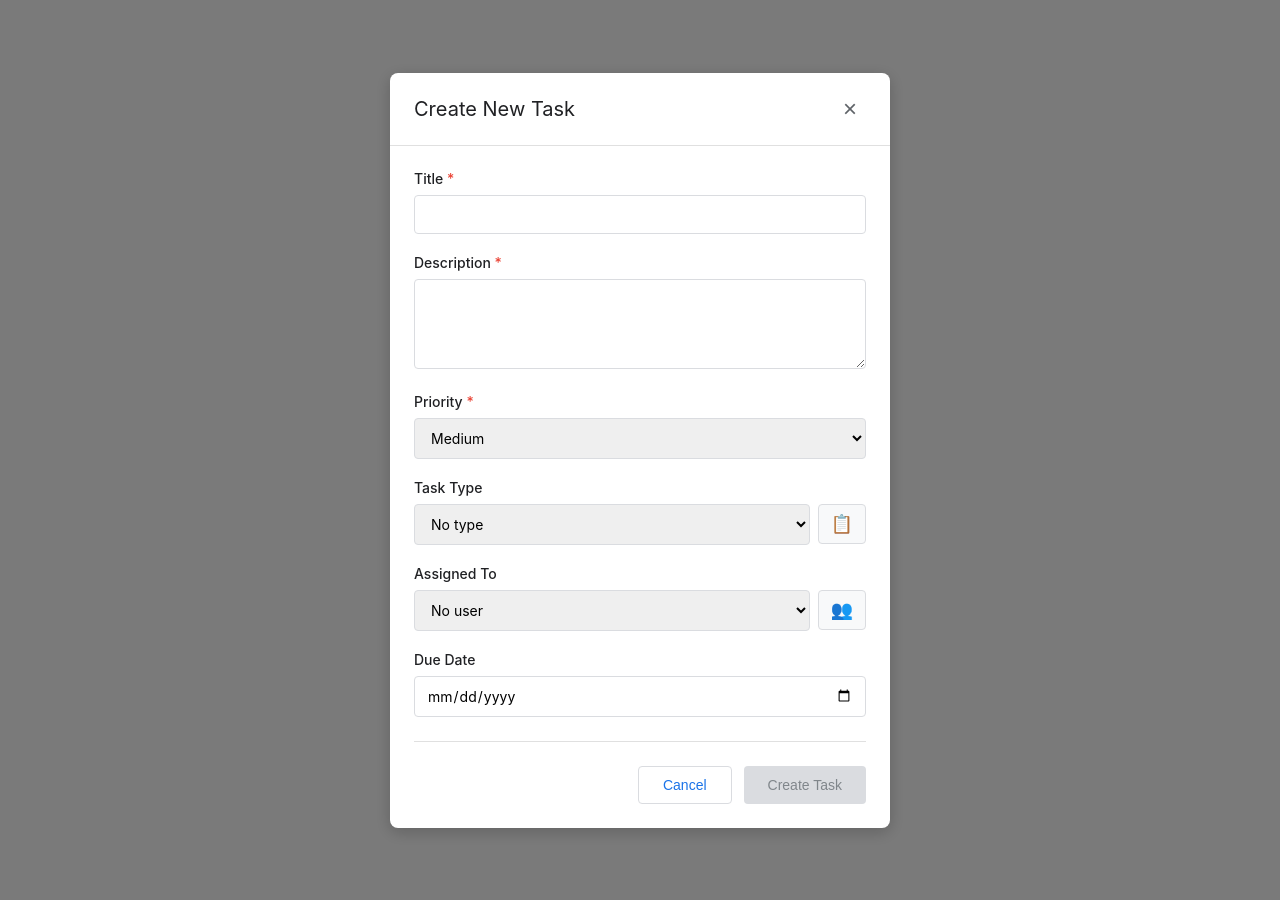
TaskForm › Submit Button State › should be enabled when form is valid and has changes
Type "Test Task" into the field labelled "Title *" at (640, 214), box top-left (414, 194), bottom-right (866, 234)
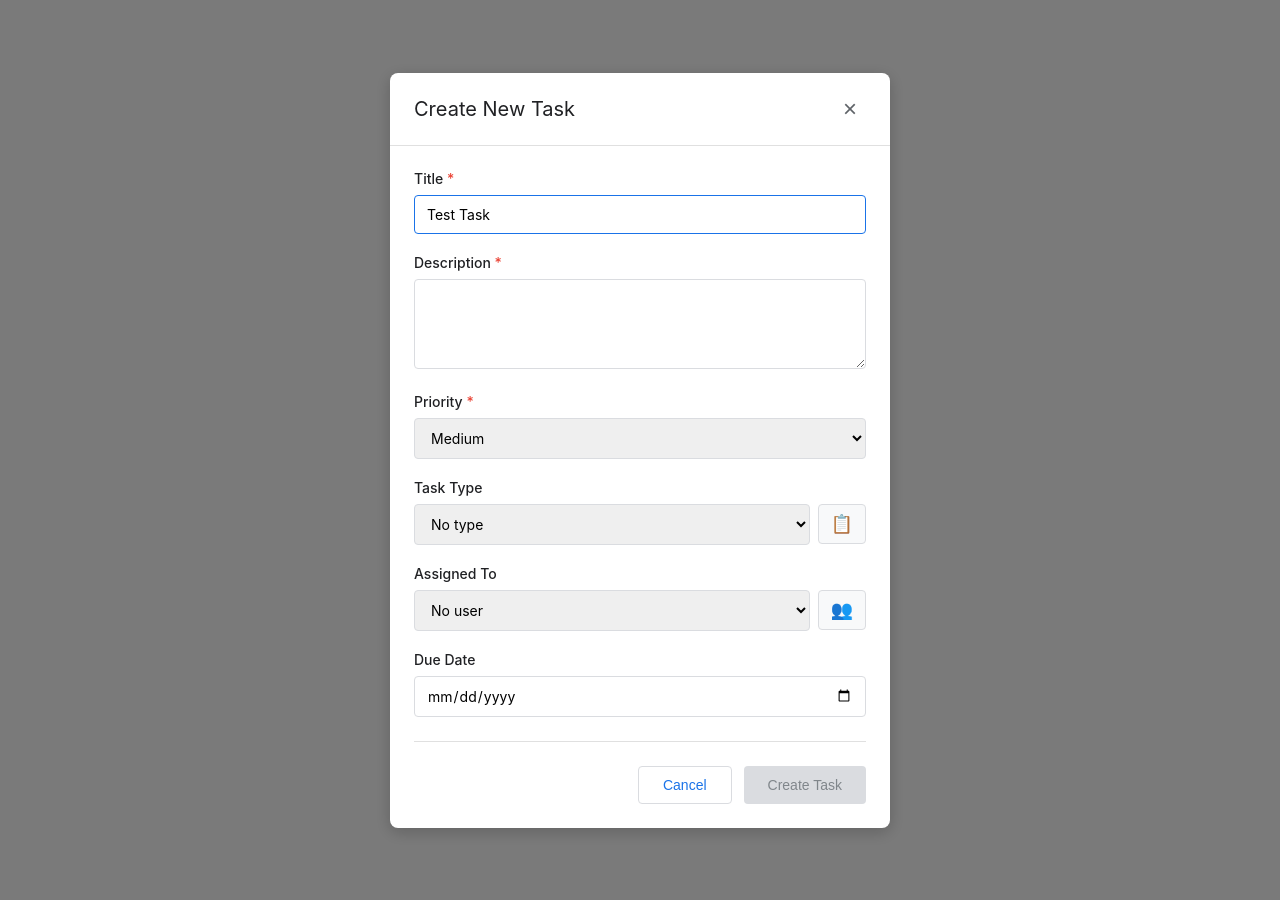
Type "Test Description" into the text box labelled "Description *" at (640, 324), box top-left (414, 278), bottom-right (866, 368)
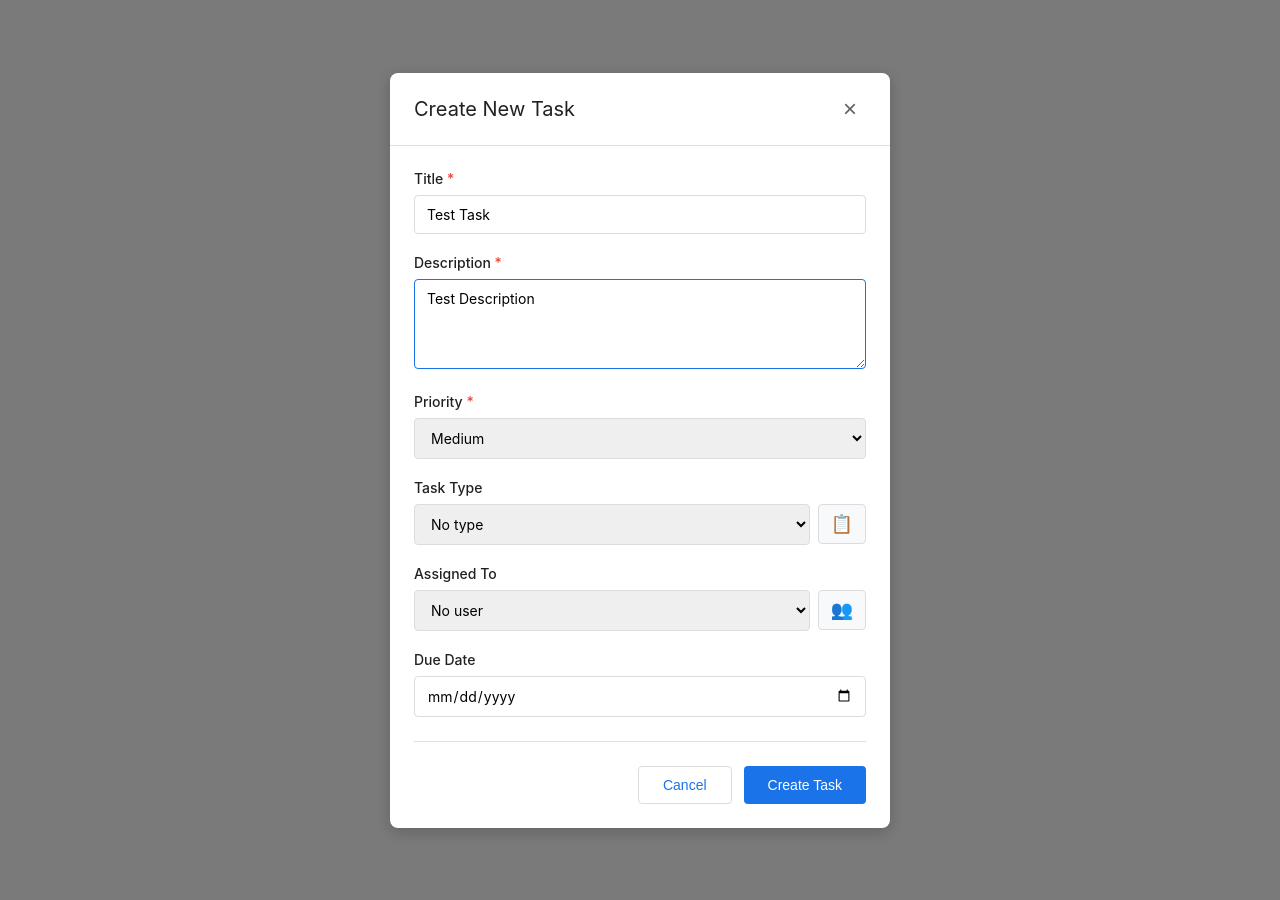
Now the button "Create Task" is enabled, box top-left (744, 766), bottom-right (866, 804)
